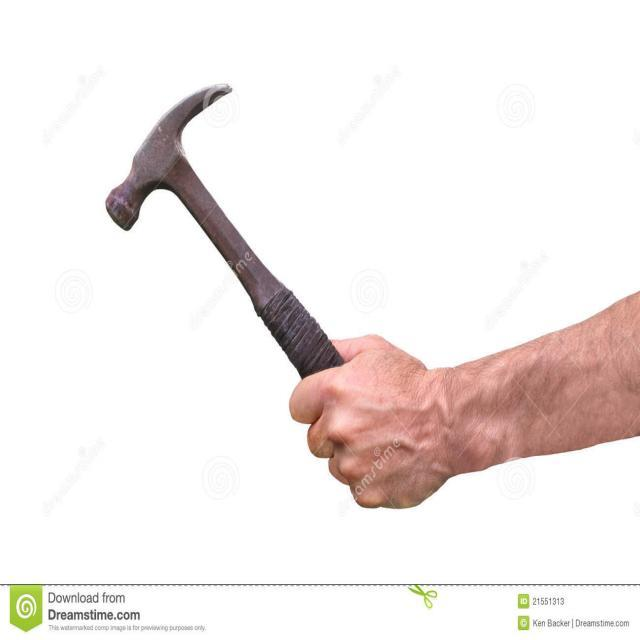hammer: (100, 78, 349, 382)
